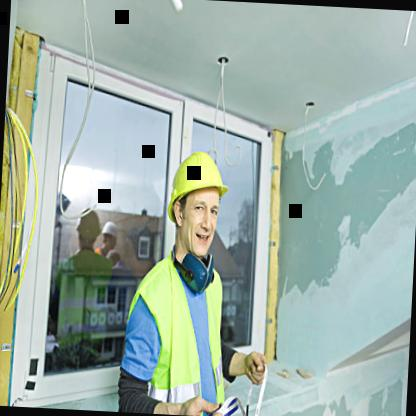helmet: (161, 134, 231, 278)
